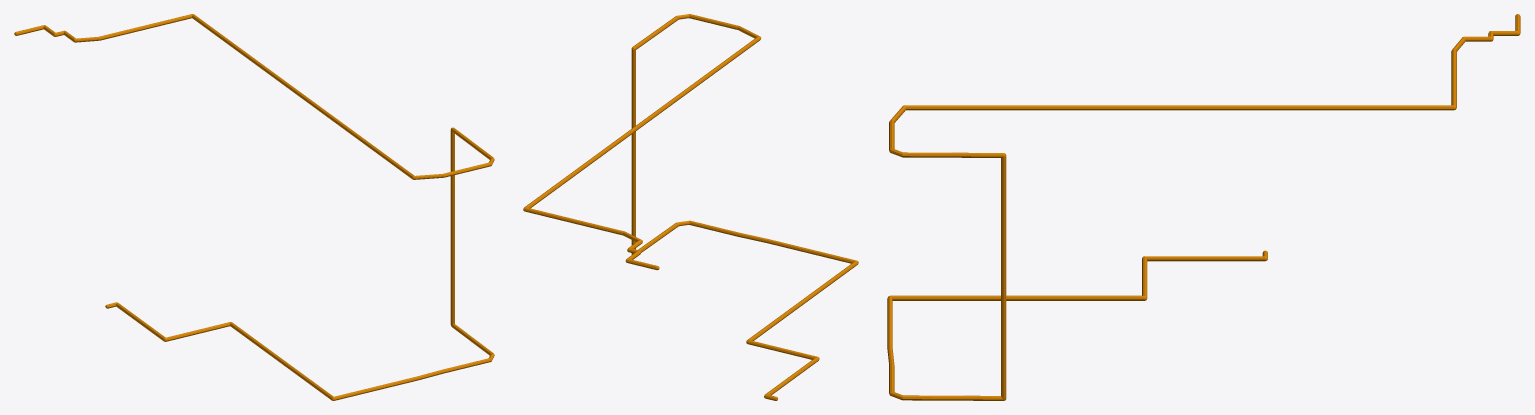
3 views of the same model, side by side, from view 1: azimuth 30°, elevation 25°; view 2: azimuth 150°, elevation 25°; view 3: azimuth 270°, elevation 25° (orthographic). The views are drawn at different scales.
Bounding box in the file's own units: 1304 × 1020 × 2362.
